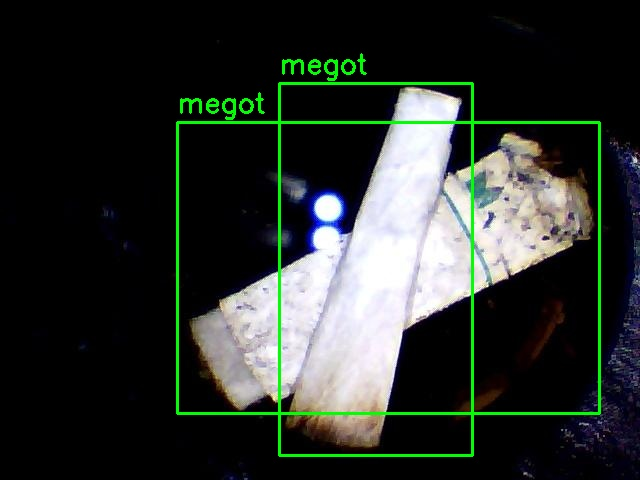megot: (177, 122, 599, 413), (279, 83, 472, 455)
